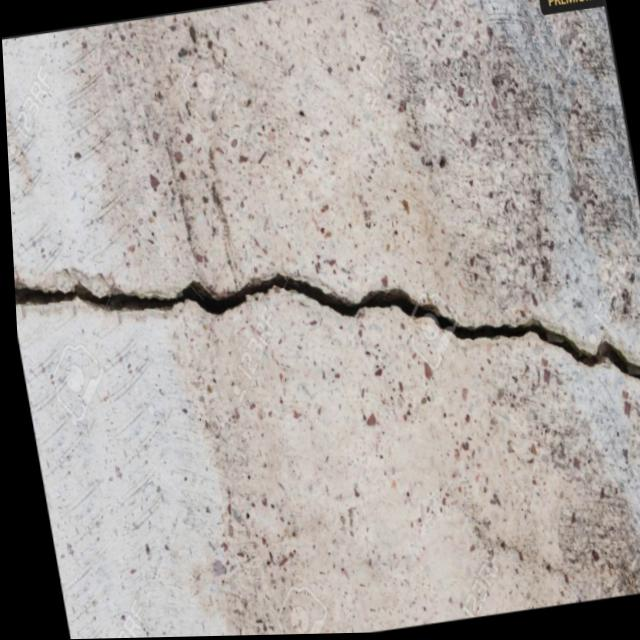Crack: (8, 185, 640, 494)
